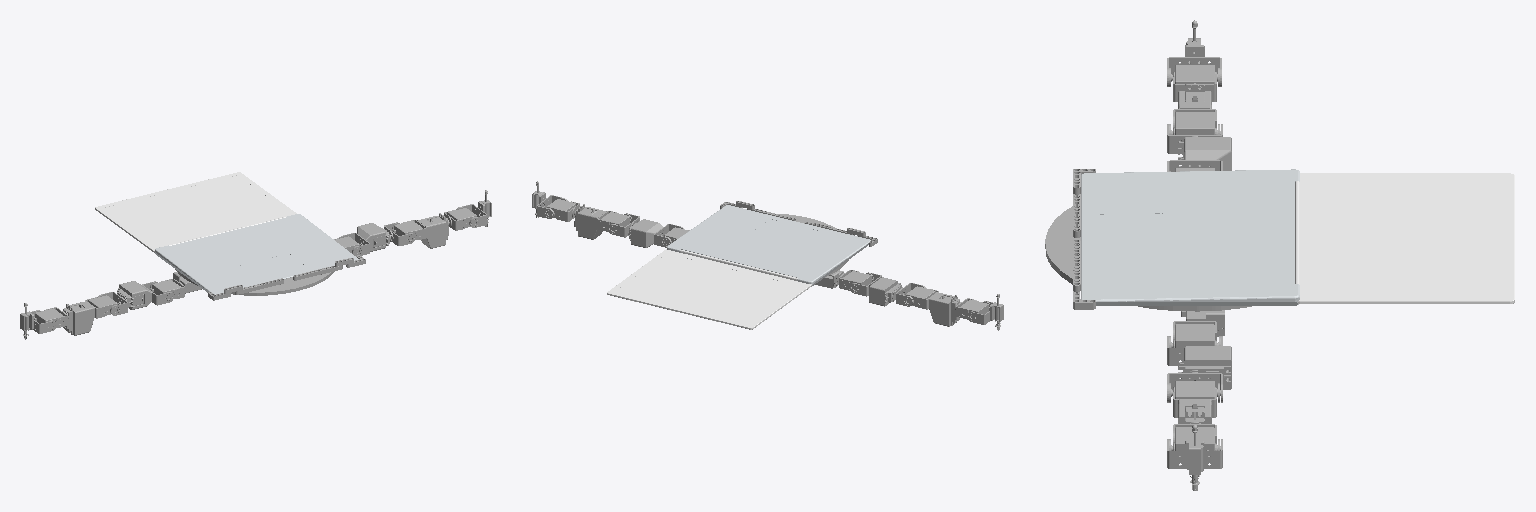
--- Render facts (derived) ---
Views: 3 orthographic renders of the robot side by side, from view 1: azimuth 30°, elevation 25°; view 2: azimuth 150°, elevation 25°; view 3: azimuth 270°, elevation 25°.
Model laptop_stand_assembly_urdf with 21 links and 20 joints (13 revolute, 2 prismatic, 5 fixed), rooted at base, posed all joints at 0.
Links seen in each view (by area): view 1: laptop_base, laptop_screen, base, link_r4, link_l4, link_r2, link_l2; view 2: laptop_screen, laptop_base, link_r4, link_l4, link_l2, link_r2, base; view 3: laptop_base, laptop_screen, base, link_l2, link_r4, link_l4, link_r2, link_l1, link_r5, link_l5, link_r6, link_l6 (+2 smaller).
Boxes of the visible links, x1,y1,x2,y2 form: laptop_base: [155, 214, 358, 294]; laptop_screen: [95, 172, 296, 252]; base: [175, 255, 365, 300]; link_r4: [63, 295, 117, 335]; link_l4: [393, 213, 448, 248]; link_r2: [117, 281, 173, 309]; link_l2: [339, 223, 390, 256]; laptop_screen: [607, 249, 811, 329]; laptop_base: [667, 205, 870, 285]; link_r4: [906, 286, 959, 326]; link_l4: [574, 204, 629, 239]; link_l2: [628, 219, 684, 247]; link_r2: [850, 272, 901, 306]; base: [720, 201, 877, 276]; laptop_base: [1081, 169, 1299, 305]; laptop_screen: [1295, 173, 1514, 303]; base: [1045, 169, 1251, 311]; link_l2: [1167, 336, 1231, 389]; link_r4: [1172, 83, 1220, 140]; link_l4: [1172, 381, 1220, 423]; link_r2: [1167, 137, 1231, 171]; link_l1: [1172, 321, 1217, 352]; link_r5: [1172, 65, 1216, 101]; link_l5: [1172, 424, 1220, 455]; link_r6: [1167, 45, 1221, 86]; link_l6: [1167, 439, 1222, 469].
Bounding box of the posed robot: 0.9876 × 0.4776 × 0.0828 m (x, y, z).
Meshes: 21 distinct files referenced, 21 mesh visuals loaded (21 binary STL).

The robot description file, URDF, robot "laptop_stand_assembly_urdf":
<?xml version="1.0" encoding="utf-8"?>
<!-- This URDF was automatically created by SolidWorks to URDF Exporter! Originally created by Stephen Brawner ([email redacted]) 
     Commit Version: 1.6.0-4-g7f85cfe  Build Version: 1.6.7995.38578
     For more information, please see http://wiki.ros.org/sw_urdf_exporter -->
<robot
  name="laptop_stand_assembly_urdf">
  <link
    name="base">
    <inertial>
      <origin
        xyz="0.164120755557615 0.327374905998424 0.558047382788356"
        rpy="0 0 0" />
      <mass
        value="0.569087710758288" />
      <inertia
        ixx="0.00322337245024159"
        ixy="-1.08978062418385E-09"
        ixz="-5.23191580486976E-20"
        iyy="0.00644664936698071"
        iyz="-6.97410021655592E-18"
        izz="0.00322713964917259" />
    </inertial>
    <visual>
      <origin
        xyz="0 0 0"
        rpy="0 0 0" />
      <geometry>
        <mesh
          filename="package://laptop_stand_assembly_urdf/meshes/base.STL" />
      </geometry>
      <material
        name="">
        <color
          rgba="0.752941176470588 0.752941176470588 0.752941176470588 1" />
      </material>
    </visual>
    <collision>
      <origin
        xyz="0 0 0"
        rpy="0 0 0" />
      <geometry>
        <mesh
          filename="package://laptop_stand_assembly_urdf/meshes/base.STL" />
      </geometry>
    </collision>
  </link>
  <link
    name="link_l0">
    <inertial>
      <origin
        xyz="0.0559336851155522 -0.0292574775004147 -0.0385822690701582"
        rpy="0 0 0" />
      <mass
        value="0.0968689232942503" />
      <inertia
        ixx="1.55445766229565E-05"
        ixy="-8.35277627129582E-08"
        ixz="5.03416975328284E-08"
        iyy="2.70845786958263E-05"
        iyz="-8.09666106437045E-22"
        izz="1.84598196263773E-05" />
    </inertial>
    <visual>
      <origin
        xyz="0 0 0"
        rpy="0 0 0" />
      <geometry>
        <mesh
          filename="package://laptop_stand_assembly_urdf/meshes/link_l0.STL" />
      </geometry>
      <material
        name="">
        <color
          rgba="0.752941176470588 0.752941176470588 0.752941176470588 1" />
      </material>
    </visual>
    <collision>
      <origin
        xyz="0 0 0"
        rpy="0 0 0" />
      <geometry>
        <mesh
          filename="package://laptop_stand_assembly_urdf/meshes/link_l0.STL" />
      </geometry>
    </collision>
  </link>
  <joint
    name="joint_l0"
    type="fixed">
    <origin
      xyz="0.24312 -0.58208 0.33712"
      rpy="1.5708 0 0" />
    <parent
      link="base" />
    <child
      link="link_l0" />
    <axis
      xyz="0 0 0" />
  </joint>
  <link
    name="link_l1">
    <inertial>
      <origin
        xyz="0.02809575839072 3.28070903776734E-14 -6.99855560301055E-05"
        rpy="0 0 0" />
      <mass
        value="0.0983193966224125" />
      <inertia
        ixx="1.82547717455819E-05"
        ixy="9.28757228385284E-21"
        ixz="1.33869460245786E-07"
        iyy="2.74058318008889E-05"
        iyz="-1.72387453504201E-21"
        izz="1.55837095473524E-05" />
    </inertial>
    <visual>
      <origin
        xyz="0 0 0"
        rpy="0 0 0" />
      <geometry>
        <mesh
          filename="package://laptop_stand_assembly_urdf/meshes/link_l1.STL" />
      </geometry>
      <material
        name="">
        <color
          rgba="0.752941176470588 0.752941176470588 0.752941176470588 1" />
      </material>
    </visual>
    <collision>
      <origin
        xyz="0 0 0"
        rpy="0 0 0" />
      <geometry>
        <mesh
          filename="package://laptop_stand_assembly_urdf/meshes/link_l1.STL" />
      </geometry>
    </collision>
  </link>
  <joint
    name="joint_l1"
    type="revolute">
    <origin
      xyz="0.079005 -0.03013 -0.026943"
      rpy="0 0 0" />
    <parent
      link="link_l0" />
    <child
      link="link_l1" />
    <axis
      xyz="1 0 0" />
    <limit
      lower="0"
      upper="0"
      effort="0"
      velocity="0" />
  </joint>
  <link
    name="link_l2">
    <inertial>
      <origin
        xyz="0.0461886207700381 1.78651626825399E-09 -0.0103797278638016"
        rpy="0 0 0" />
      <mass
        value="0.0859994124632009" />
      <inertia
        ixx="2.46737502641869E-05"
        ixy="-4.15515135660887E-13"
        ixz="3.06999597287475E-07"
        iyy="2.60834574351704E-05"
        iyz="-1.62418442269541E-11"
        izz="1.4446349540438E-05" />
    </inertial>
    <visual>
      <origin
        xyz="0 0 0"
        rpy="0 0 0" />
      <geometry>
        <mesh
          filename="package://laptop_stand_assembly_urdf/meshes/link_l2.STL" />
      </geometry>
      <material
        name="">
        <color
          rgba="0.752941176470588 0.752941176470588 0.752941176470588 1" />
      </material>
    </visual>
    <collision>
      <origin
        xyz="0 0 0"
        rpy="0 0 0" />
      <geometry>
        <mesh
          filename="package://laptop_stand_assembly_urdf/meshes/link_l2.STL" />
      </geometry>
    </collision>
  </link>
  <joint
    name="joint_l2"
    type="revolute">
    <origin
      xyz="0.041 0 0"
      rpy="0 0 0" />
    <parent
      link="link_l1" />
    <child
      link="link_l2" />
    <axis
      xyz="0 0 1" />
    <limit
      lower="0"
      upper="0"
      effort="0"
      velocity="0" />
  </joint>
  <link
    name="link_l3">
    <inertial>
      <origin
        xyz="0.0147682772904482 -2.22044604925031E-14 5.34514283072607E-05"
        rpy="0 0 0" />
      <mass
        value="0.0159210393973333" />
      <inertia
        ixx="6.45323964092141E-06"
        ixy="-2.07852994571441E-21"
        ixz="-4.34332501844656E-20"
        iyy="7.34995360383269E-06"
        iyz="9.39099910452039E-22"
        izz="1.92416901042438E-06" />
    </inertial>
    <visual>
      <origin
        xyz="0 0 0"
        rpy="0 0 0" />
      <geometry>
        <mesh
          filename="package://laptop_stand_assembly_urdf/meshes/link_l3.STL" />
      </geometry>
      <material
        name="">
        <color
          rgba="0.752941176470588 0.752941176470588 0.752941176470588 1" />
      </material>
    </visual>
    <collision>
      <origin
        xyz="0 0 0"
        rpy="0 0 0" />
      <geometry>
        <mesh
          filename="package://laptop_stand_assembly_urdf/meshes/link_l3.STL" />
      </geometry>
    </collision>
  </link>
  <joint
    name="joint_l3"
    type="revolute">
    <origin
      xyz="0.0829 0 0"
      rpy="0 0 0" />
    <parent
      link="link_l2" />
    <child
      link="link_l3" />
    <axis
      xyz="1 0 0" />
    <limit
      lower="0"
      upper="0"
      effort="0"
      velocity="0" />
  </joint>
  <link
    name="link_l4">
    <inertial>
      <origin
        xyz="0.0342911769875062 -0.00514236003670787 -4.07013588854532E-05"
        rpy="0 0 0" />
      <mass
        value="0.169052742225624" />
      <inertia
        ixx="3.67510576719424E-05"
        ixy="3.6497975912292E-07"
        ixz="-1.33869456871802E-07"
        iyy="4.03198573681713E-05"
        iyz="-2.04480445890195E-12"
        izz="3.42114758441071E-05" />
    </inertial>
    <visual>
      <origin
        xyz="0 0 0"
        rpy="0 0 0" />
      <geometry>
        <mesh
          filename="package://laptop_stand_assembly_urdf/meshes/link_l4.STL" />
      </geometry>
      <material
        name="">
        <color
          rgba="0.752941176470588 0.752941176470588 0.752941176470588 1" />
      </material>
    </visual>
    <collision>
      <origin
        xyz="0 0 0"
        rpy="0 0 0" />
      <geometry>
        <mesh
          filename="package://laptop_stand_assembly_urdf/meshes/link_l4.STL" />
      </geometry>
    </collision>
  </link>
  <joint
    name="joint_l4"
    type="revolute">
    <origin
      xyz="0.03 0 0"
      rpy="0 0 0" />
    <parent
      link="link_l3" />
    <child
      link="link_l4" />
    <axis
      xyz="0 0 1" />
    <limit
      lower="0"
      upper="0"
      effort="0"
      velocity="0" />
  </joint>
  <link
    name="link_l5">
    <inertial>
      <origin
        xyz="0.0280957583907159 -5.27355936696949E-15 -6.99855560041263E-05"
        rpy="0 0 0" />
      <mass
        value="0.0983193966224127" />
      <inertia
        ixx="1.82547717455819E-05"
        ixy="-1.98174697744006E-22"
        ixz="1.33869460245802E-07"
        iyy="2.74058318008891E-05"
        iyz="-5.04057393379043E-22"
        izz="1.55837095473525E-05" />
    </inertial>
    <visual>
      <origin
        xyz="0 0 0"
        rpy="0 0 0" />
      <geometry>
        <mesh
          filename="package://laptop_stand_assembly_urdf/meshes/link_l5.STL" />
      </geometry>
      <material
        name="">
        <color
          rgba="0.752941176470588 0.752941176470588 0.752941176470588 1" />
      </material>
    </visual>
    <collision>
      <origin
        xyz="0 0 0"
        rpy="0 0 0" />
      <geometry>
        <mesh
          filename="package://laptop_stand_assembly_urdf/meshes/link_l5.STL" />
      </geometry>
    </collision>
  </link>
  <joint
    name="joint_l5"
    type="revolute">
    <origin
      xyz="0.0939 0 0"
      rpy="0 0 0" />
    <parent
      link="link_l4" />
    <child
      link="link_l5" />
    <axis
      xyz="1 0 0" />
    <limit
      lower="0"
      upper="0"
      effort="0"
      velocity="0" />
  </joint>
  <link
    name="link_l6">
    <inertial>
      <origin
        xyz="0.0164872038278415 0.00120003270607666 2.56285006151602E-05"
        rpy="0 0 0" />
      <mass
        value="0.0172967559051044" />
      <inertia
        ixx="6.68342744332552E-06"
        ixy="-1.46499200429034E-21"
        ixz="3.21371297059934E-20"
        iyy="7.41338128122389E-06"
        iyz="-1.2460487823826E-22"
        izz="2.10151137749978E-06" />
    </inertial>
    <visual>
      <origin
        xyz="0 0 0"
        rpy="0 0 0" />
      <geometry>
        <mesh
          filename="package://laptop_stand_assembly_urdf/meshes/link_l6.STL" />
      </geometry>
      <material
        name="">
        <color
          rgba="0.752941176470588 0.752941176470588 0.752941176470588 1" />
      </material>
    </visual>
    <collision>
      <origin
        xyz="0 0 0"
        rpy="0 0 0" />
      <geometry>
        <mesh
          filename="package://laptop_stand_assembly_urdf/meshes/link_l6.STL" />
      </geometry>
    </collision>
  </link>
  <joint
    name="joint_l6"
    type="revolute">
    <origin
      xyz="0.041 0 0"
      rpy="0 0 0" />
    <parent
      link="link_l5" />
    <child
      link="link_l6" />
    <axis
      xyz="0 0 1" />
    <limit
      lower="0"
      upper="0"
      effort="0"
      velocity="0" />
  </joint>
  <link
    name="endeffector_l0">
    <inertial>
      <origin
        xyz="-0.0878303952156479 0.0300596233530496 0.0257541149072398"
        rpy="0 0 0" />
      <mass
        value="0.00464948473160135" />
      <inertia
        ixx="1.58573731325261E-07"
        ixy="-1.36726070255792E-09"
        ixz="-1.88765964969695E-10"
        iyy="3.92154281893383E-07"
        iyz="1.32320117882883E-23"
        izz="3.79242197965951E-07" />
    </inertial>
    <visual>
      <origin
        xyz="0 0 0"
        rpy="0 0 0" />
      <geometry>
        <mesh
          filename="package://laptop_stand_assembly_urdf/meshes/endeffector_l0.STL" />
      </geometry>
      <material
        name="">
        <color
          rgba="0.752941176470588 0.752941176470588 0.752941176470588 1" />
      </material>
    </visual>
    <collision>
      <origin
        xyz="0 0 0"
        rpy="0 0 0" />
      <geometry>
        <mesh
          filename="package://laptop_stand_assembly_urdf/meshes/endeffector_l0.STL" />
      </geometry>
    </collision>
  </link>
  <joint
    name="joint_l7"
    type="fixed">
    <origin
      xyz="0.013761 -0.078968 0.029275"
      rpy="-1.5708 0 -1.5708" />
    <parent
      link="link_l6" />
    <child
      link="endeffector_l0" />
    <axis
      xyz="0 0 0" />
    <limit
      lower="0"
      upper="0"
      effort="0"
      velocity="0" />
  </joint>
  <link
    name="endeffector_l1">
    <inertial>
      <origin
        xyz="-0.0296877205575308 -1.44921652108776E-05 5.65900179105849E-07"
        rpy="0 0 0" />
      <mass
        value="0.00133242825424337" />
      <inertia
        ixx="5.92040264789311E-09"
        ixy="2.61573732840711E-11"
        ixz="-2.7211577957579E-12"
        iyy="3.69485155456481E-07"
        iyz="-2.91305418732359E-12"
        izz="3.69258562031941E-07" />
    </inertial>
    <visual>
      <origin
        xyz="0 0 0"
        rpy="0 0 0" />
      <geometry>
        <mesh
          filename="package://laptop_stand_assembly_urdf/meshes/endeffector_l1.STL" />
      </geometry>
      <material
        name="">
        <color
          rgba="0.752941176470588 0.752941176470588 0.752941176470588 1" />
      </material>
    </visual>
    <collision>
      <origin
        xyz="0 0 0"
        rpy="0 0 0" />
      <geometry>
        <mesh
          filename="package://laptop_stand_assembly_urdf/meshes/endeffector_l1.STL" />
      </geometry>
    </collision>
  </link>
  <joint
    name="joint_l8"
    type="prismatic">
    <origin
      xyz="-0.051084 0.029275 0.025739"
      rpy="2.7549 0 0" />
    <parent
      link="endeffector_l0" />
    <child
      link="endeffector_l1" />
    <axis
      xyz="1 0 0" />
    <limit
      lower="0"
      upper="0"
      effort="0"
      velocity="0" />
  </joint>
  <link
    name="link_r0">
    <inertial>
      <origin
        xyz="0.0559336851155522 -0.0292574775004145 -0.0573028748986239"
        rpy="0 0 0" />
      <mass
        value="0.0968689232942503" />
      <inertia
        ixx="1.55445766229565E-05"
        ixy="-8.3527762713301E-08"
        ixz="-5.03416975328387E-08"
        iyy="2.70845786958263E-05"
        iyz="-1.98868048040478E-21"
        izz="1.84598196263773E-05" />
    </inertial>
    <visual>
      <origin
        xyz="0 0 0"
        rpy="0 0 0" />
      <geometry>
        <mesh
          filename="package://laptop_stand_assembly_urdf/meshes/link_r0.STL" />
      </geometry>
      <material
        name="">
        <color
          rgba="0.752941176470588 0.752941176470588 0.752941176470588 1" />
      </material>
    </visual>
    <collision>
      <origin
        xyz="0 0 0"
        rpy="0 0 0" />
      <geometry>
        <mesh
          filename="package://laptop_stand_assembly_urdf/meshes/link_r0.STL" />
      </geometry>
    </collision>
  </link>
  <joint
    name="joint_r0"
    type="fixed">
    <origin
      xyz="0.085125 -0.48619 0.33712"
      rpy="1.5708 0 -3.1416" />
    <parent
      link="base" />
    <child
      link="link_r0" />
    <axis
      xyz="0 0 0" />
  </joint>
  <link
    name="link_r1">
    <inertial>
      <origin
        xyz="0.028095758390698 3.44169137633799E-15 -6.99855560097884E-05"
        rpy="0 0 0" />
      <mass
        value="0.0983193966224124" />
      <inertia
        ixx="1.82547717455818E-05"
        ixy="1.43143614117504E-20"
        ixz="1.33869460245773E-07"
        iyy="2.74058318008889E-05"
        iyz="1.57151775476728E-20"
        izz="1.55837095473524E-05" />
    </inertial>
    <visual>
      <origin
        xyz="0 0 0"
        rpy="0 0 0" />
      <geometry>
        <mesh
          filename="package://laptop_stand_assembly_urdf/meshes/link_r1.STL" />
      </geometry>
      <material
        name="">
        <color
          rgba="0.752941176470588 0.752941176470588 0.752941176470588 1" />
      </material>
    </visual>
    <collision>
      <origin
        xyz="0 0 0"
        rpy="0 0 0" />
      <geometry>
        <mesh
          filename="package://laptop_stand_assembly_urdf/meshes/link_r1.STL" />
      </geometry>
    </collision>
  </link>
  <joint
    name="joint_r1"
    type="revolute">
    <origin
      xyz="0.079005 -0.03013 -0.068943"
      rpy="3.1416 0 0" />
    <parent
      link="link_r0" />
    <child
      link="link_r1" />
    <axis
      xyz="1 0 0" />
    <limit
      lower="0"
      upper="0"
      effort="0"
      velocity="0" />
  </joint>
  <link
    name="link_r2">
    <inertial>
      <origin
        xyz="0.046188620760989 1.78728976063525E-09 -0.0103797278930089"
        rpy="0 0 0" />
      <mass
        value="0.0859994123132579" />
      <inertia
        ixx="2.46737502214361E-05"
        ixy="-4.14857103970254E-13"
        ixz="3.06999571572626E-07"
        iyy="2.60834573769383E-05"
        iyz="-1.62430184462862E-11"
        izz="1.444634952469E-05" />
    </inertial>
    <visual>
      <origin
        xyz="0 0 0"
        rpy="0 0 0" />
      <geometry>
        <mesh
          filename="package://laptop_stand_assembly_urdf/meshes/link_r2.STL" />
      </geometry>
      <material
        name="">
        <color
          rgba="0.752941176470588 0.752941176470588 0.752941176470588 1" />
      </material>
    </visual>
    <collision>
      <origin
        xyz="0 0 0"
        rpy="0 0 0" />
      <geometry>
        <mesh
          filename="package://laptop_stand_assembly_urdf/meshes/link_r2.STL" />
      </geometry>
    </collision>
  </link>
  <joint
    name="joint_r2"
    type="revolute">
    <origin
      xyz="0.041 0 0"
      rpy="0 0 0" />
    <parent
      link="link_r1" />
    <child
      link="link_r2" />
    <axis
      xyz="0 0 1" />
    <limit
      lower="0"
      upper="0"
      effort="0"
      velocity="0" />
  </joint>
  <link
    name="link_r3">
    <inertial>
      <origin
        xyz="0.0147682772904491 6.66133814775094E-16 5.34514282980458E-05"
        rpy="0 0 0" />
      <mass
        value="0.0159210393973333" />
      <inertia
        ixx="6.45323964092142E-06"
        ixy="4.17463669521153E-21"
        ixz="-2.13274500196934E-20"
        iyy="7.34995360383271E-06"
        iyz="1.0197654129076E-20"
        izz="1.92416901042438E-06" />
    </inertial>
    <visual>
      <origin
        xyz="0 0 0"
        rpy="0 0 0" />
      <geometry>
        <mesh
          filename="package://laptop_stand_assembly_urdf/meshes/link_r3.STL" />
      </geometry>
      <material
        name="">
        <color
          rgba="0.752941176470588 0.752941176470588 0.752941176470588 1" />
      </material>
    </visual>
    <collision>
      <origin
        xyz="0 0 0"
        rpy="0 0 0" />
      <geometry>
        <mesh
          filename="package://laptop_stand_assembly_urdf/meshes/link_r3.STL" />
      </geometry>
    </collision>
  </link>
  <joint
    name="joint_r3"
    type="revolute">
    <origin
      xyz="0.0829 0 0"
      rpy="0 0 0" />
    <parent
      link="link_r2" />
    <child
      link="link_r3" />
    <axis
      xyz="1 0 0" />
    <limit
      lower="0"
      upper="0"
      effort="0"
      velocity="0" />
  </joint>
  <link
    name="link_r4">
    <inertial>
      <origin
        xyz="0.0342911769656657 0.00514236004561797 -4.07044498479392E-05"
        rpy="0 0 0" />
      <mass
        value="0.169052742095449" />
      <inertia
        ixx="3.67510576346178E-05"
        ixy="-3.64979737378202E-07"
        ixz="-1.33869462797316E-07"
        iyy="4.03198573552824E-05"
        iyz="-2.04337772053923E-12"
        izz="3.42114757941864E-05" />
    </inertial>
    <visual>
      <origin
        xyz="0 0 0"
        rpy="0 0 0" />
      <geometry>
        <mesh
          filename="package://laptop_stand_assembly_urdf/meshes/link_r4.STL" />
      </geometry>
      <material
        name="">
        <color
          rgba="0.752941176470588 0.752941176470588 0.752941176470588 1" />
      </material>
    </visual>
    <collision>
      <origin
        xyz="0 0 0"
        rpy="0 0 0" />
      <geometry>
        <mesh
          filename="package://laptop_stand_assembly_urdf/meshes/link_r4.STL" />
      </geometry>
    </collision>
  </link>
  <joint
    name="joint_r4"
    type="revolute">
    <origin
      xyz="0.03 0 0"
      rpy="0 0 0" />
    <parent
      link="link_r3" />
    <child
      link="link_r4" />
    <axis
      xyz="0 0 1" />
    <limit
      lower="0"
      upper="0"
      effort="0"
      velocity="0" />
  </joint>
  <link
    name="link_r5">
    <inertial>
      <origin
        xyz="0.0280957583907173 -4.16333634234434E-15 -6.99855560141183E-05"
        rpy="0 0 0" />
      <mass
        value="0.0983193966224124" />
      <inertia
        ixx="1.82547717455818E-05"
        ixy="4.94340511646091E-21"
        ixz="1.33869460245737E-07"
        iyy="2.74058318008889E-05"
        iyz="1.97964660335115E-20"
        izz="1.55837095473524E-05" />
    </inertial>
    <visual>
      <origin
        xyz="0 0 0"
        rpy="0 0 0" />
      <geometry>
        <mesh
          filename="package://laptop_stand_assembly_urdf/meshes/link_r5.STL" />
      </geometry>
      <material
        name="">
        <color
          rgba="0.752941176470588 0.752941176470588 0.752941176470588 1" />
      </material>
    </visual>
    <collision>
      <origin
        xyz="0 0 0"
        rpy="0 0 0" />
      <geometry>
        <mesh
          filename="package://laptop_stand_assembly_urdf/meshes/link_r5.STL" />
      </geometry>
    </collision>
  </link>
  <joint
    name="joint_r5"
    type="revolute">
    <origin
      xyz="0.0939 0 0"
      rpy="0 0 0" />
    <parent
      link="link_r4" />
    <child
      link="link_r5" />
    <axis
      xyz="1 0 0" />
    <limit
      lower="0"
      upper="0"
      effort="0"
      velocity="0" />
  </joint>
  <link
    name="link_r6">
    <inertial>
      <origin
        xyz="0.0164872038278419 0.00120003270609342 -0.000279988921339736"
        rpy="0 0 0" />
      <mass
        value="0.0172967559051045" />
      <inertia
        ixx="6.68342744332558E-06"
        ixy="-4.64150434055524E-21"
        ixz="4.84599571295652E-20"
        iyy="7.41338128122398E-06"
        iyz="9.87921283225998E-21"
        izz="2.10151137749982E-06" />
    </inertial>
    <visual>
      <origin
        xyz="0 0 0"
        rpy="0 0 0" />
      <geometry>
        <mesh
          filename="package://laptop_stand_assembly_urdf/meshes/link_r6.STL" />
      </geometry>
      <material
        name="">
        <color
          rgba="0.752941176470588 0.752941176470588 0.752941176470588 1" />
      </material>
    </visual>
    <collision>
      <origin
        xyz="0 0 0"
        rpy="0 0 0" />
      <geometry>
        <mesh
          filename="package://laptop_stand_assembly_urdf/meshes/link_r6.STL" />
      </geometry>
    </collision>
  </link>
  <joint
    name="joint_r6"
    type="revolute">
    <origin
      xyz="0.041 0 0"
      rpy="3.1416 0 0" />
    <parent
      link="link_r5" />
    <child
      link="link_r6" />
    <axis
      xyz="0 0 1" />
    <limit
      lower="0"
      upper="0"
      effort="0"
      velocity="0" />
  </joint>
  <link
    name="endeffector_r0">
    <inertial>
      <origin
        xyz="-0.0878303952156478 0.0300596233530492 0.0257541149072429"
        rpy="0 0 0" />
      <mass
        value="0.00464948473160135" />
      <inertia
        ixx="1.58573731325261E-07"
        ixy="-1.36726070255869E-09"
        ixz="-1.88765964969575E-10"
        iyy="3.92154281893384E-07"
        iyz="1.25540272697362E-22"
        izz="3.79242197965951E-07" />
    </inertial>
    <visual>
      <origin
        xyz="0 0 0"
        rpy="0 0 0" />
      <geometry>
        <mesh
          filename="package://laptop_stand_assembly_urdf/meshes/endeffector_r0.STL" />
      </geometry>
      <material
        name="">
        <color
          rgba="0.752941176470588 0.752941176470588 0.752941176470588 1" />
      </material>
    </visual>
    <collision>
      <origin
        xyz="0 0 0"
        rpy="0 0 0" />
      <geometry>
        <mesh
          filename="package://laptop_stand_assembly_urdf/meshes/endeffector_r0.STL" />
      </geometry>
    </collision>
  </link>
  <joint
    name="joint_r7"
    type="fixed">
    <origin
      xyz="0.013761 -0.078968 0.028969"
      rpy="-1.5708 0 -1.5708" />
    <parent
      link="link_r6" />
    <child
      link="endeffector_r0" />
    <axis
      xyz="0 0 0" />
  </joint>
  <link
    name="endeffector_r1">
    <inertial>
      <origin
        xyz="-0.0296877205284704 -1.44921206088888E-05 5.65934178575755E-07"
        rpy="0 0 0" />
      <mass
        value="0.00133242825689026" />
      <inertia
        ixx="5.92040254158374E-09"
        ixy="2.61571724165332E-11"
        ixz="-2.7213096265164E-12"
        iyy="3.69485155334299E-07"
        iyz="-2.91296269087095E-12"
        izz="3.69258562153781E-07" />
    </inertial>
    <visual>
      <origin
        xyz="0 0 0"
        rpy="0 0 0" />
      <geometry>
        <mesh
          filename="package://laptop_stand_assembly_urdf/meshes/endeffector_r1.STL" />
      </geometry>
      <material
        name="">
        <color
          rgba="0.752941176470588 0.752941176470588 0.752941176470588 1" />
      </material>
    </visual>
    <collision>
      <origin
        xyz="0 0 0"
        rpy="0 0 0" />
      <geometry>
        <mesh
          filename="package://laptop_stand_assembly_urdf/meshes/endeffector_r1.STL" />
      </geometry>
    </collision>
  </link>
  <joint
    name="joint_r8"
    type="prismatic">
    <origin
      xyz="-0.051084 0.029275 0.025739"
      rpy="-0.096716 0 0" />
    <parent
      link="endeffector_r0" />
    <child
      link="endeffector_r1" />
    <axis
      xyz="1 0 0" />
    <limit
      lower="0"
      upper="0"
      effort="0"
      velocity="0" />
  </joint>
  <link
    name="laptop_base">
    <inertial>
      <origin
        xyz="0.154050060500273 0.00449414818318156 -0.12127357931596"
        rpy="0 0 0" />
      <mass
        value="1.57003003415504" />
      <inertia
        ixx="0.00604554876153174"
        ixy="-4.58663573356693E-11"
        ixz="8.38500149051084E-09"
        iyy="0.0184189652410555"
        iyz="5.31885289151537E-05"
        izz="0.0123956900766562" />
    </inertial>
    <visual>
      <origin
        xyz="0 0 0"
        rpy="0 0 0" />
      <geometry>
        <mesh
          filename="package://laptop_stand_assembly_urdf/meshes/laptop_base.STL" />
      </geometry>
      <material
        name="">
        <color
          rgba="0.898039215686275 0.917647058823529 0.929411764705882 1" />
      </material>
    </visual>
    <collision>
      <origin
        xyz="0 0 0"
        rpy="0 0 0" />
      <geometry>
        <mesh
          filename="package://laptop_stand_assembly_urdf/meshes/laptop_base.STL" />
      </geometry>
    </collision>
  </link>
  <joint
    name="joint_b0"
    type="fixed">
    <origin
      xyz="0.010071 -0.67144 0.33034"
      rpy="1.5708 0 0" />
    <parent
      link="base" />
    <child
      link="laptop_base" />
    <axis
      xyz="0 0 0" />
  </joint>
  <link
    name="laptop_screen">
    <inertial>
      <origin
        xyz="-0.154049999999998 -0.00432331999244695 0.107294994128249"
        rpy="0 0 0" />
      <mass
        value="0.677675443117423" />
      <inertia
        ixx="0.00291010471617536"
        ixy="6.82198472103962E-20"
        ixz="2.03758342166094E-17"
        iyy="0.00825059443200138"
        iyz="4.95550968054451E-06"
        izz="0.00534236871369314" />
    </inertial>
    <visual>
      <origin
        xyz="0 0 0"
        rpy="0 0 0" />
      <geometry>
        <mesh
          filename="package://laptop_stand_assembly_urdf/meshes/laptop_screen.STL" />
      </geometry>
      <material
        name="">
        <color
          rgba="1 1 1 1" />
      </material>
    </visual>
    <collision>
      <origin
        xyz="0 0 0"
        rpy="0 0 0" />
      <geometry>
        <mesh
          filename="package://laptop_stand_assembly_urdf/meshes/laptop_screen.STL" />
      </geometry>
    </collision>
  </link>
  <joint
    name="joint_b1"
    type="revolute">
    <origin
      xyz="0 0.0084502 -0.22077"
      rpy="3.1416 0 3.1416" />
    <parent
      link="laptop_base" />
    <child
      link="laptop_screen" />
    <axis
      xyz="1 0 0" />
    <limit
      lower="0"
      upper="0"
      effort="0"
      velocity="0" />
  </joint>
</robot>
